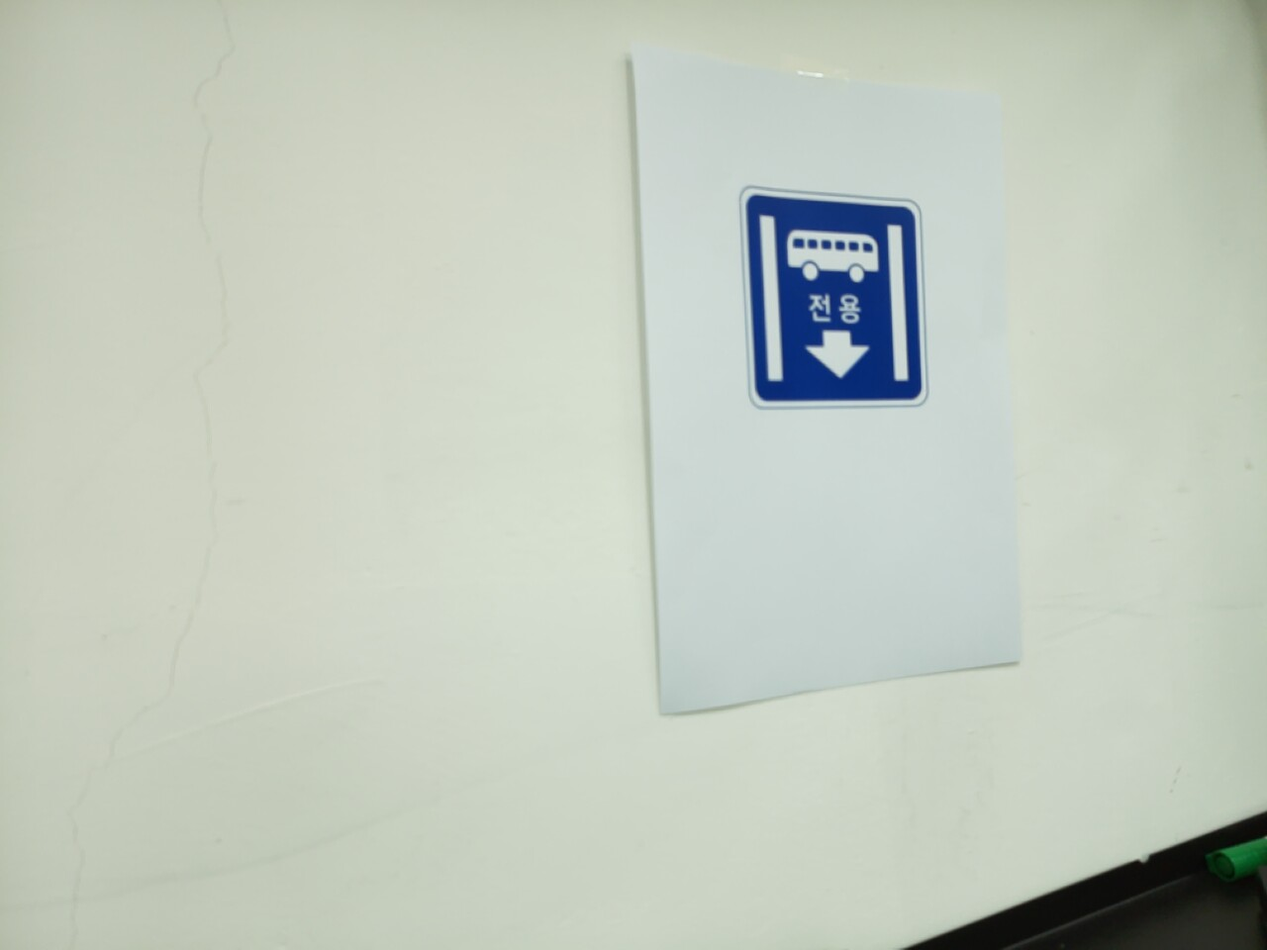bus_only_lane: (738, 187, 928, 410)
